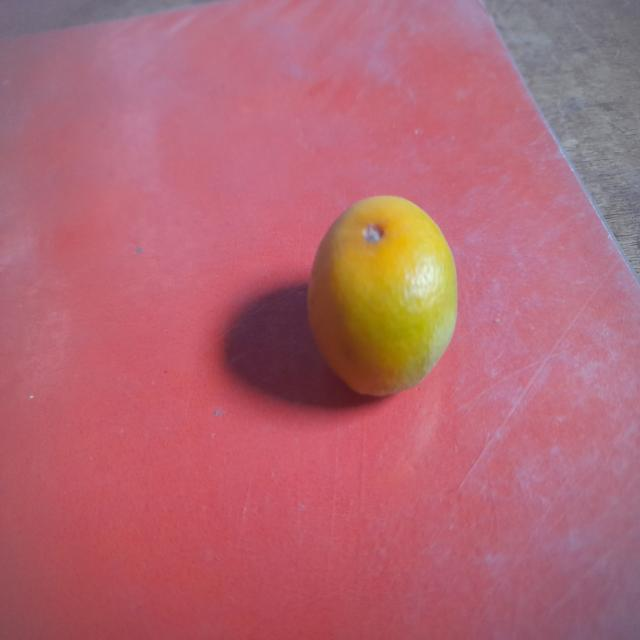greening: (316, 191, 464, 402)
